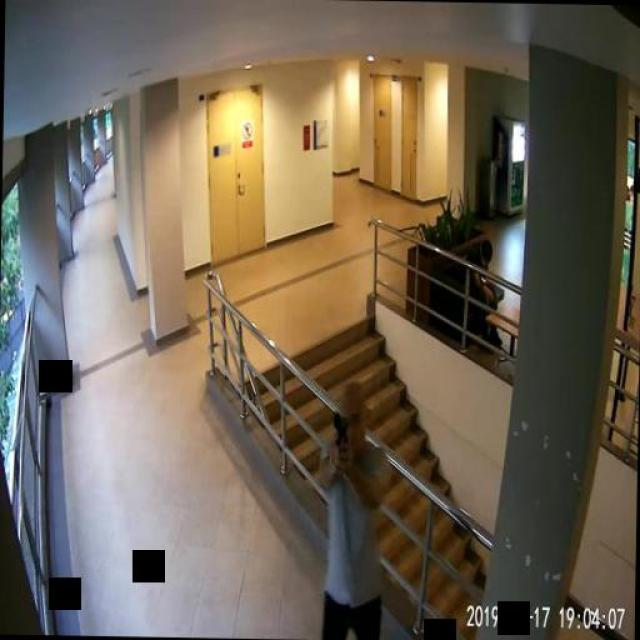gun: (328, 412, 348, 463)
